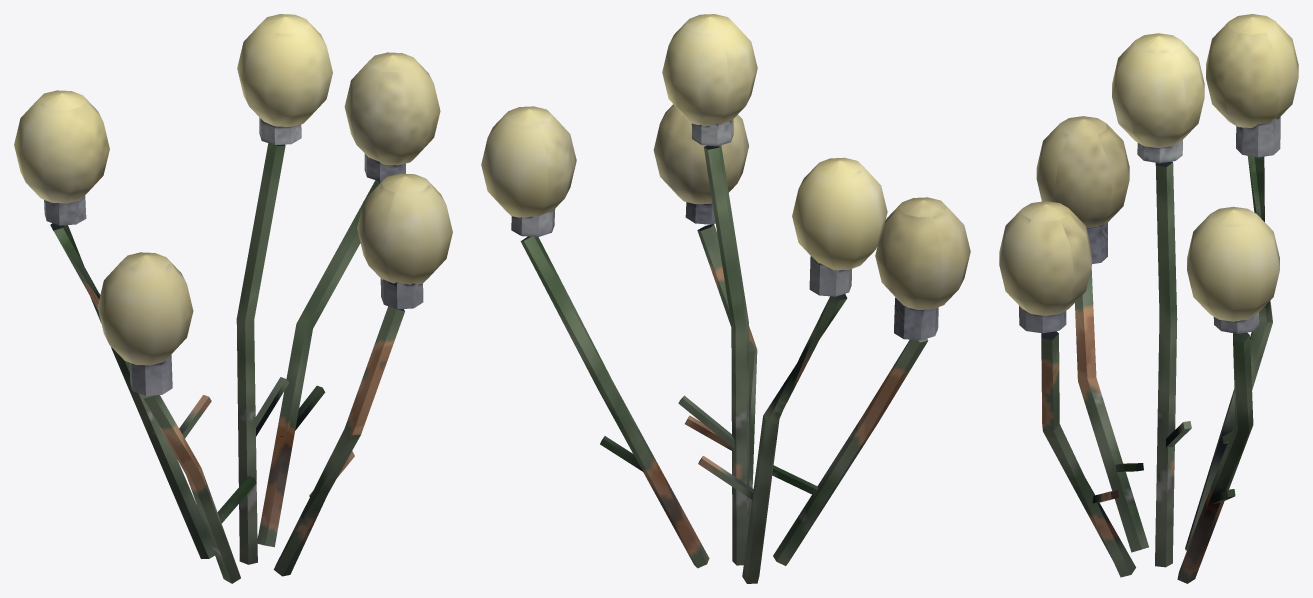
The model's file is FlowerBulbs.glb.
The picture shows the model from 3 angles, left to right: view 1: azimuth 30°, elevation 25°; view 2: azimuth 150°, elevation 25°; view 3: azimuth 270°, elevation 25°; orthographic projection.
Parts seen in each view (by area): view 1: Bulbs, Stalks, Sockets; view 2: Bulbs, Stalks, Sockets; view 3: Bulbs, Stalks, Sockets.
Boxes of the visible parts, x1,y1,x2,y2 form: Bulbs: (14,14,452,365); Stalks: (50,143,404,583); Sockets: (44,117,423,395); Bulbs: (481,14,970,309); Stalks: (520,145,928,583); Sockets: (511,119,938,340); Bulbs: (999,14,1298,321); Stalks: (1041,156,1272,583); Sockets: (1019,117,1280,333).
Size of the model in its own units: 1.26 by 1.61 by 0.7973.
Materials: 3 (3 with a texture image).
